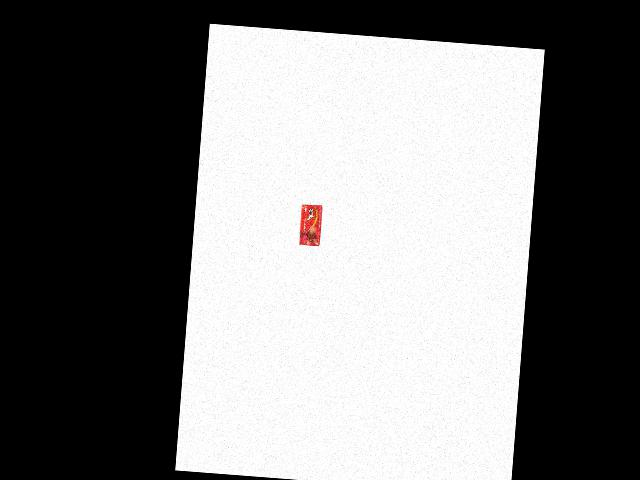chocolate: (299, 201, 324, 246)
